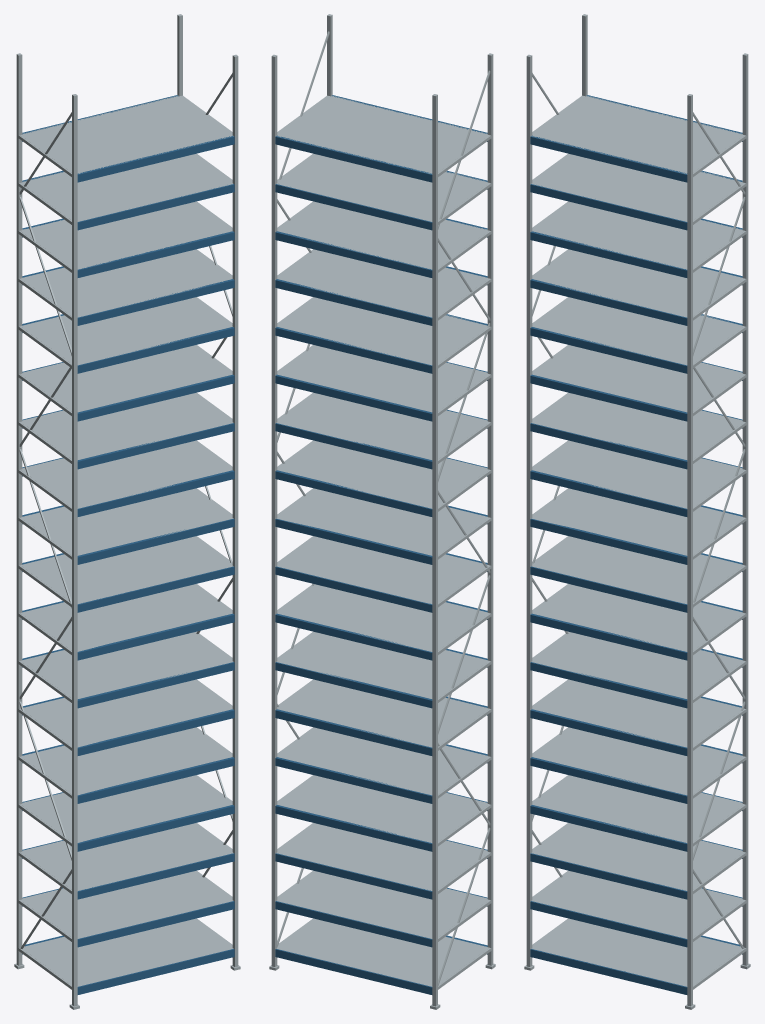
Rendered from bin-rack-double.glb.
3 views of the same model, side by side, from view 1: azimuth 30°, elevation 25°; view 2: azimuth 150°, elevation 25°; view 3: azimuth 330°, elevation 25° (orthographic).
Visible parts, largest first — view 1: bin-rack-double_galvanized_steel, bin-rack-double_beam_blue; view 2: bin-rack-double_galvanized_steel, bin-rack-double_beam_blue; view 3: bin-rack-double_galvanized_steel, bin-rack-double_beam_blue.
Boxes of the visible parts, x1,y1,x2,y2 form: bin-rack-double_galvanized_steel: (14,14,240,1009); bin-rack-double_beam_blue: (22,95,234,994); bin-rack-double_galvanized_steel: (269,14,495,1009); bin-rack-double_beam_blue: (275,95,487,994); bin-rack-double_galvanized_steel: (524,14,750,1009); bin-rack-double_beam_blue: (530,95,742,994).
Bounding box in the file's own units: 2.07 × 10.8 × 1.27.
